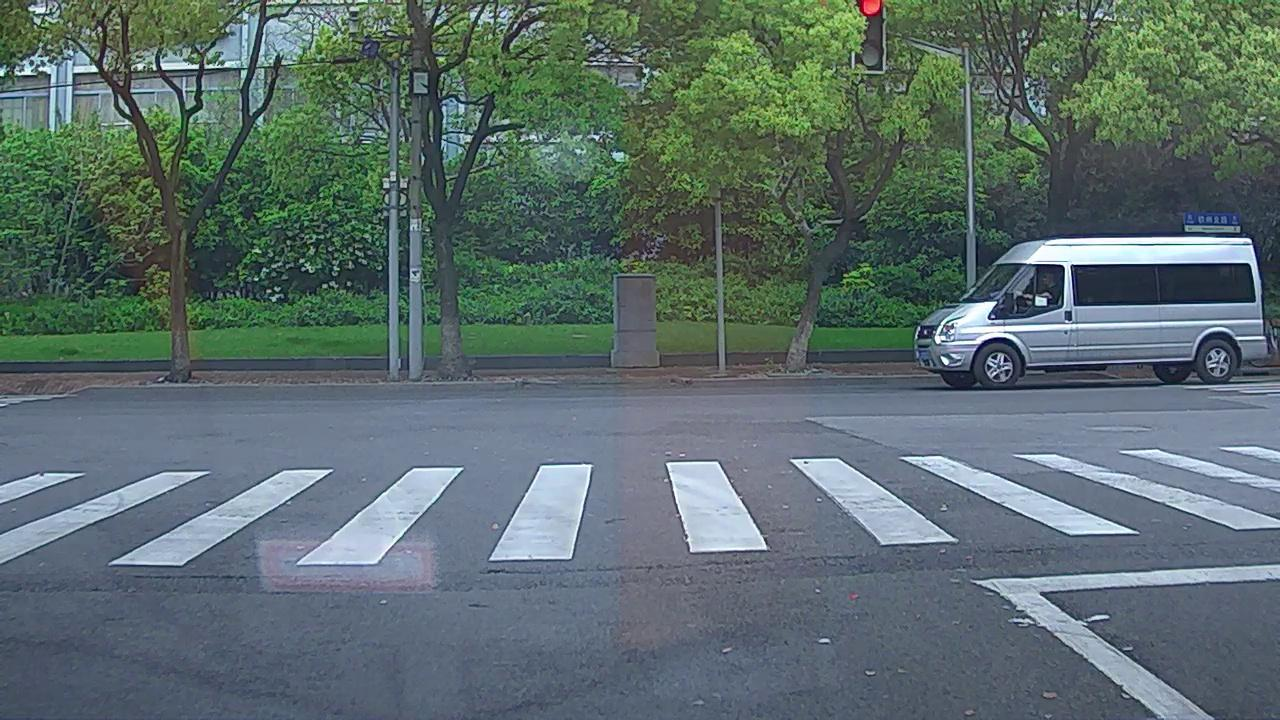traffic_light: (852, 1, 885, 74)
